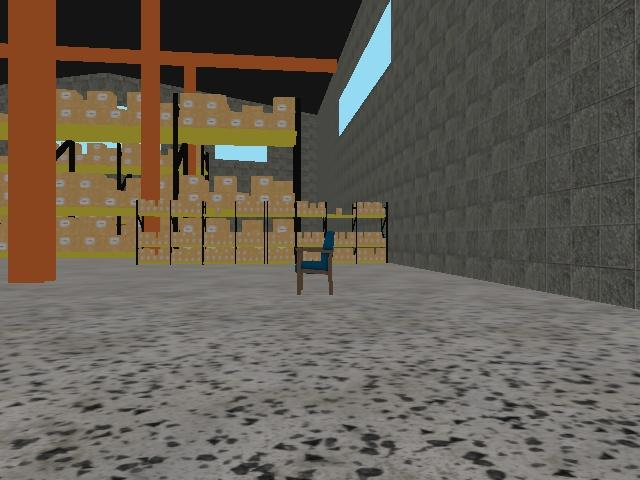chair: (293, 230, 335, 297)
